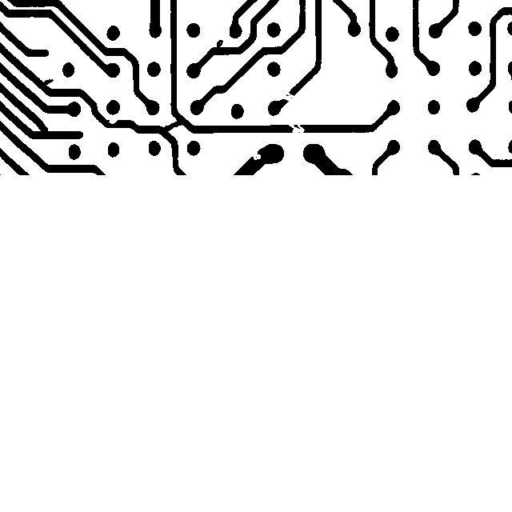mousebite: (243, 142, 268, 167), (101, 111, 125, 131)
open: (280, 109, 312, 142), (268, 85, 302, 108)
short: (150, 113, 190, 142), (26, 110, 55, 141)
spur: (34, 71, 61, 94), (209, 32, 230, 58)
